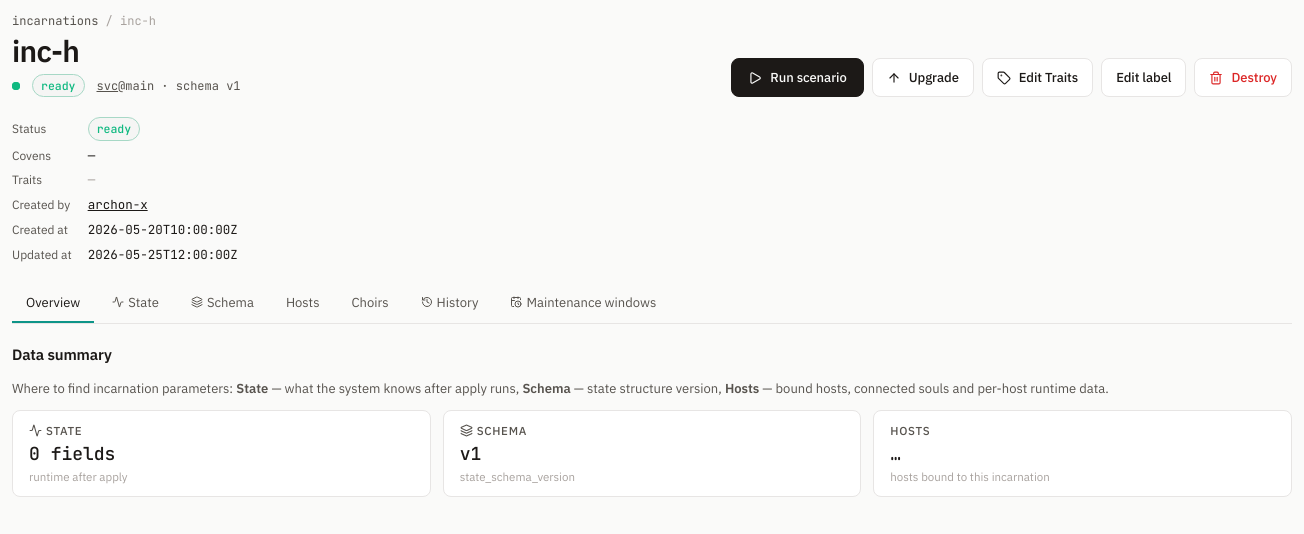
Scenario: IncarnationDetail › History tab lists one row per run, with its status and a link to the run view
This screenshot has width=1304, height=534.
Expected: the heading "inc-h" is shown, [12, 31, 79, 70]
Click the tab "History". click: point(450, 304)
box: [407, 284, 492, 323]
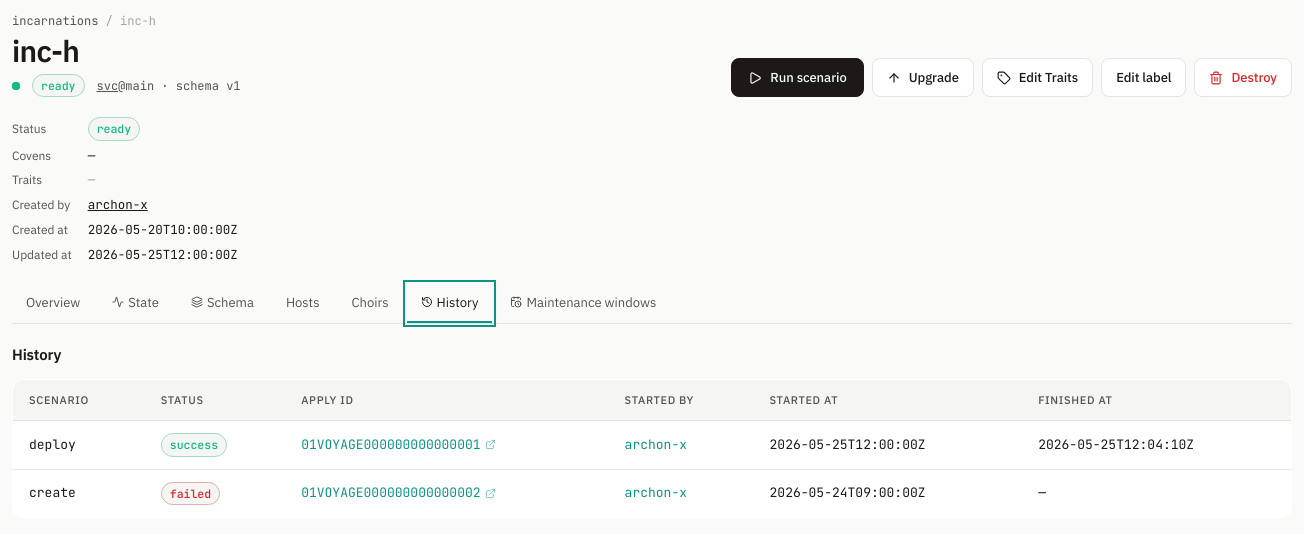
Expected: the table with test id "incarnation-runs-table" is shown, [12, 379, 1292, 518]
Expected: the row with test id "history-run-row-01VOYAGE000000000000001" shows "success", [170, 437, 218, 452]
Expected: the row with test id "history-run-row-01VOYAGE000000000000002" shows "failed", [170, 486, 211, 500]
